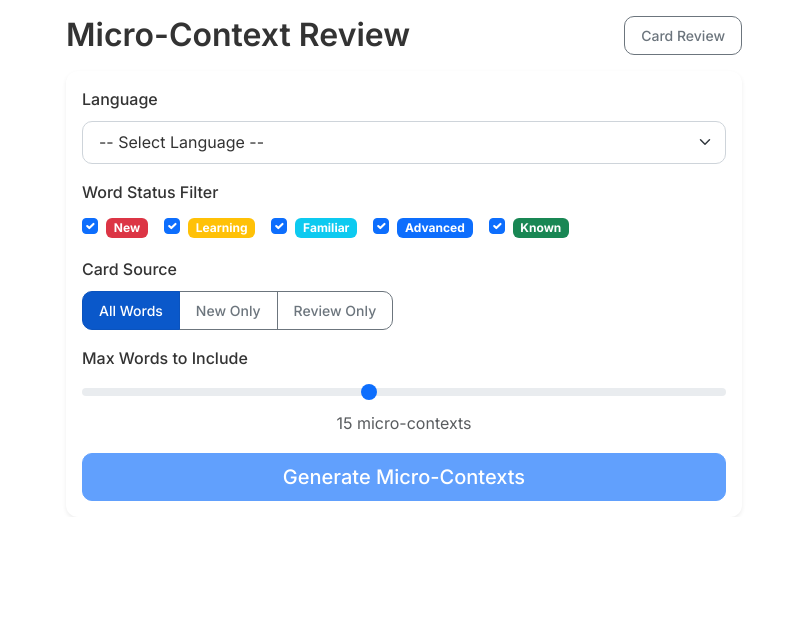
Scenario: SrsStoryReview (micro-contexts) › shows error on review failure without leaving the review phase
This screenshot has width=809, height=635.
Select "Spanish" in the dropdown labelled "Language" at (404, 142), box 82,121 -> 726,164
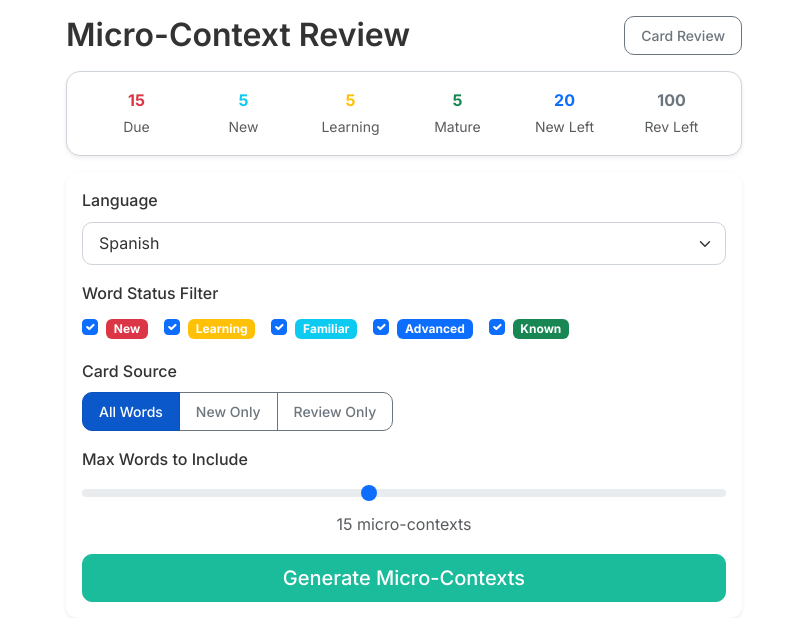
Click the button "Generate Micro-Contexts".
click(404, 578)  # box 82,554 -> 726,602
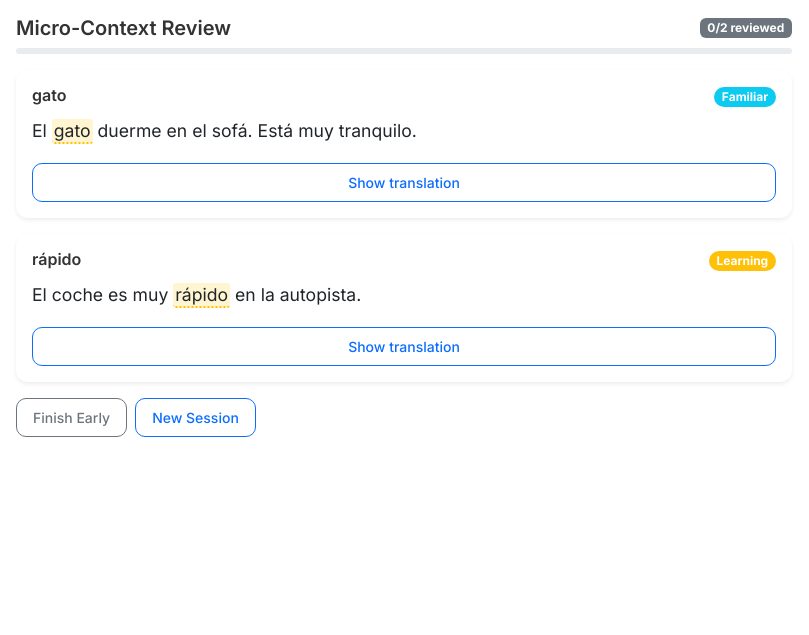
Click the button with test id "srs-microcontext-reveal" below "Familiar".
click(404, 182)  # box 32,163 -> 776,202
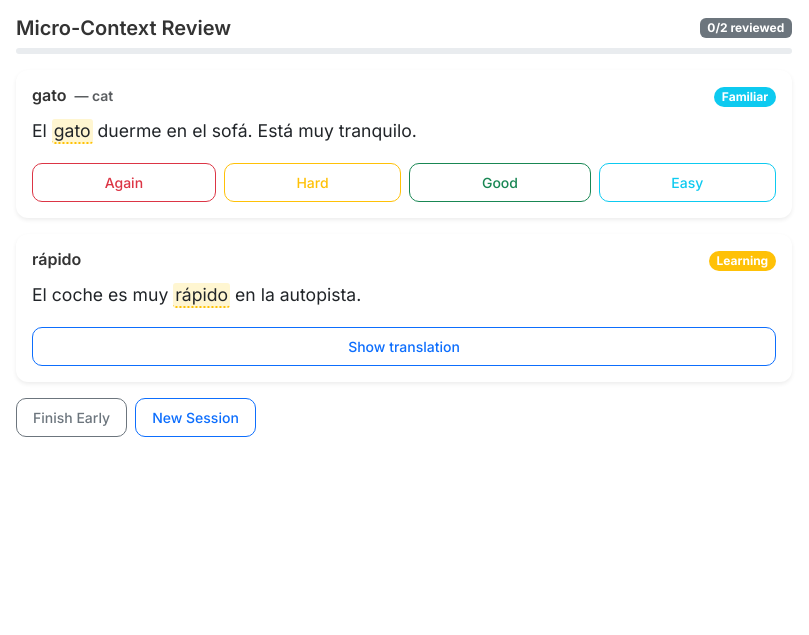
Click the button "Good".
click(500, 182)  # box 409,163 -> 591,202
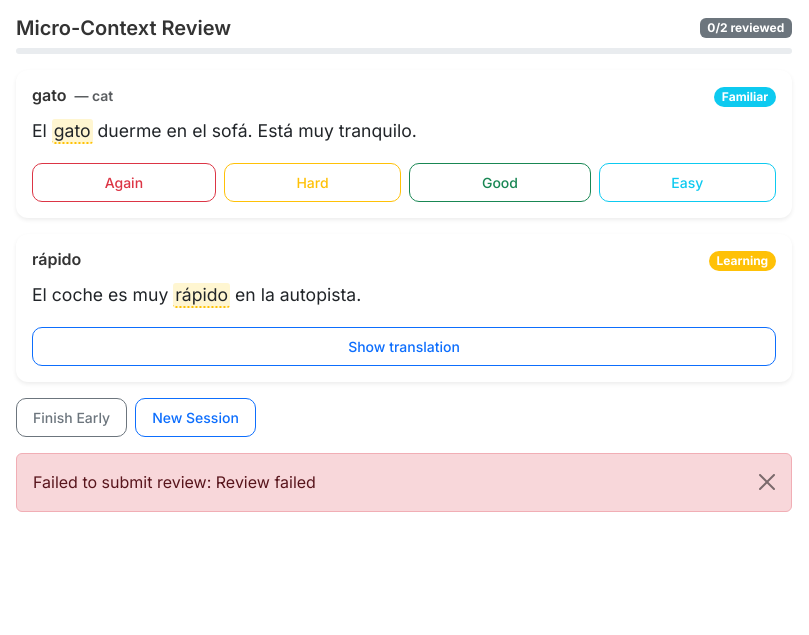
Expected: the text "Failed to submit review: Review failed" is shown, 16,453 -> 792,512
